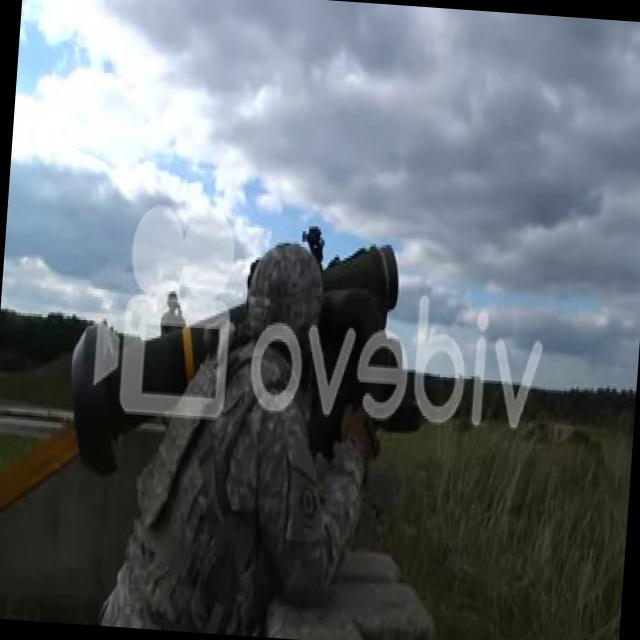rocket: (61, 222, 398, 486)
